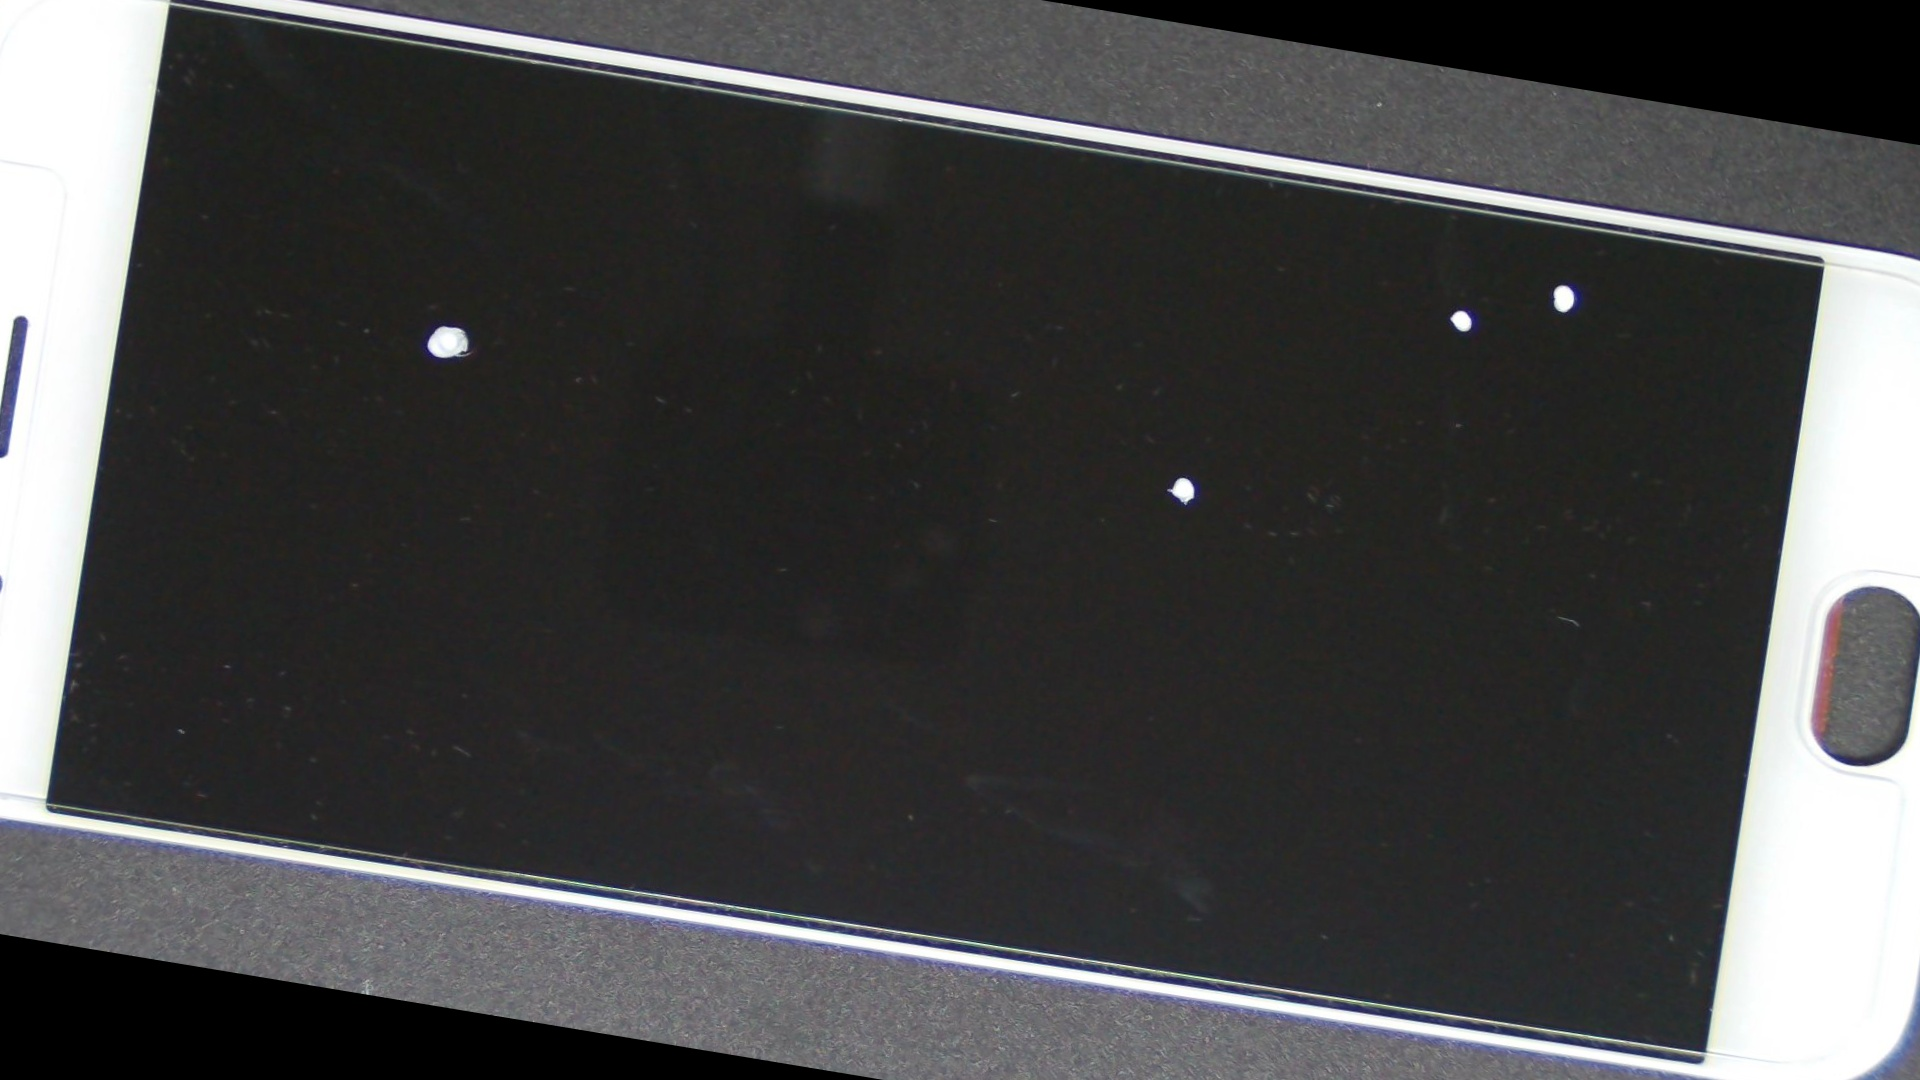oil: (471, 144, 1892, 807), (645, 59, 1920, 526), (703, 47, 1920, 465), (105, 66, 774, 580)
